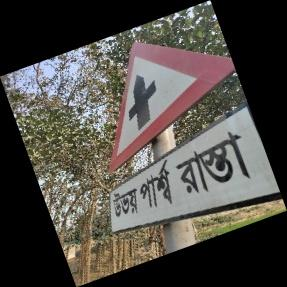Crossroad: (106, 41, 281, 237)
